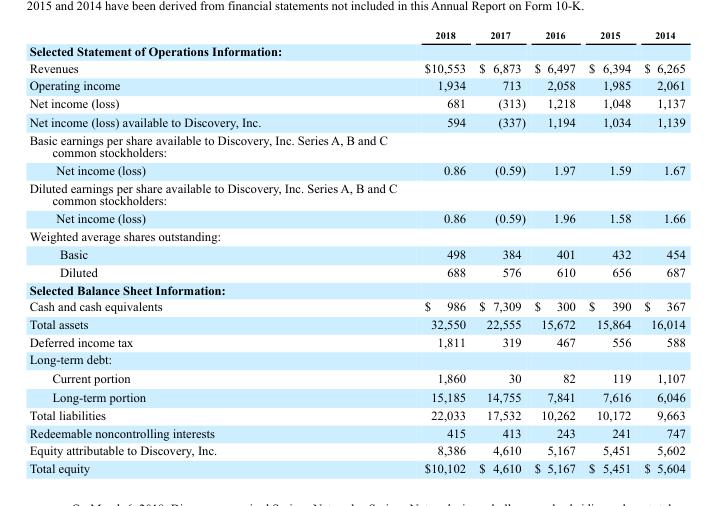table: (28, 29, 684, 474)
table column: (28, 29, 342, 474), (342, 29, 471, 474), (471, 29, 529, 474), (581, 29, 637, 474), (529, 29, 581, 474), (637, 29, 684, 474)
table column header: (28, 29, 684, 42)
table projected row header: (28, 130, 684, 160), (28, 178, 684, 208), (28, 226, 684, 244), (28, 350, 684, 368), (28, 42, 684, 59), (28, 280, 684, 297)
table row: (28, 130, 684, 160), (28, 178, 684, 208), (28, 93, 684, 112), (28, 244, 684, 263), (28, 368, 684, 387), (28, 112, 684, 130), (28, 160, 684, 178), (28, 208, 684, 226), (28, 226, 684, 244), (28, 314, 684, 332), (28, 332, 684, 350), (28, 350, 684, 368), (28, 387, 684, 405), (28, 405, 684, 423), (28, 423, 684, 441), (28, 42, 684, 59), (28, 59, 684, 76), (28, 76, 684, 93), (28, 263, 684, 280), (28, 280, 684, 297), (28, 297, 684, 314), (28, 441, 684, 458), (28, 458, 684, 474), (28, 29, 684, 42)
